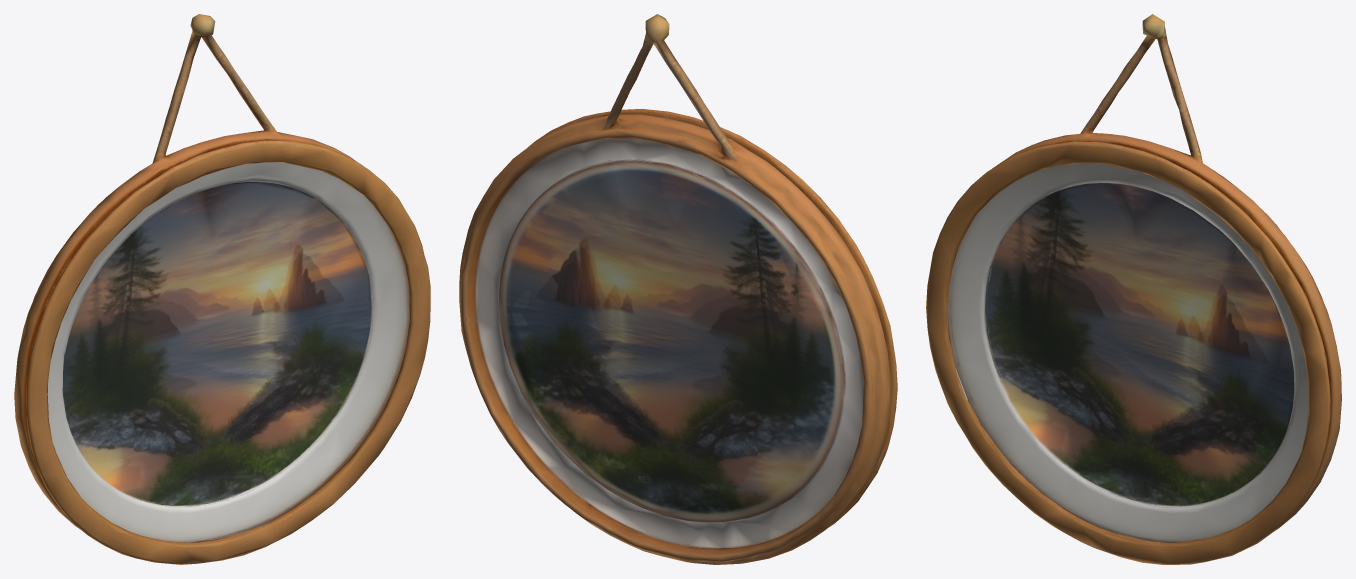
Rendered from Meshy_AI_çerçeve_0114215432_texture.fbx.
The picture shows the model from 3 angles, left to right: view 1: azimuth 30°, elevation 25°; view 2: azimuth 150°, elevation 25°; view 3: azimuth 330°, elevation 25°; orthographic projection. The views are drawn at different scales.
Visible parts, largest first — view 1: Mesh_0; view 2: Mesh_0; view 3: Mesh_0.
Part boxes in pixels (x1=…): Mesh_0: x1=14, y1=14, x2=430, y2=564; Mesh_0: x1=459, y1=14, x2=897, y2=564; Mesh_0: x1=926, y1=14, x2=1341, y2=564.
Bounding box in the file's own units: 154 × 191 × 22.26.
1 material, 1 textured.
